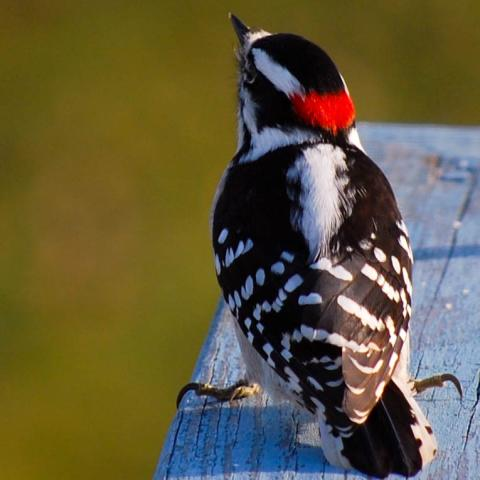bird: (179, 11, 463, 478)
